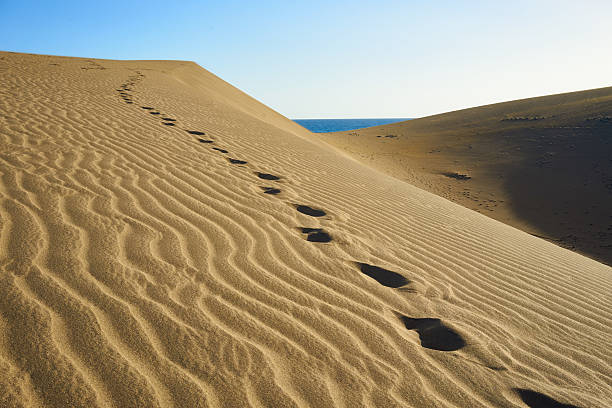human_footprint: (398, 313, 465, 350), (356, 262, 409, 287), (513, 388, 577, 407), (299, 227, 331, 242), (295, 204, 326, 216), (255, 172, 279, 180), (261, 186, 280, 194), (228, 158, 247, 164), (186, 130, 205, 135), (212, 147, 227, 153), (198, 138, 213, 143)
